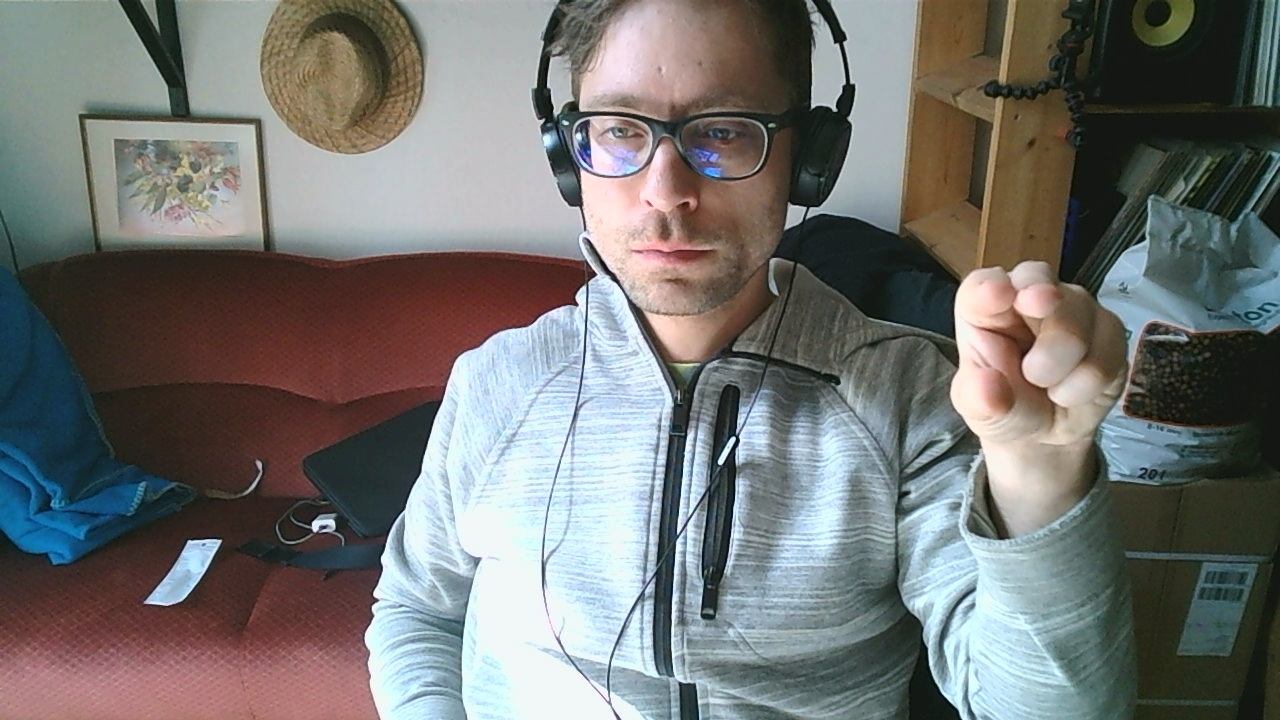no: (951, 258, 1129, 443)
